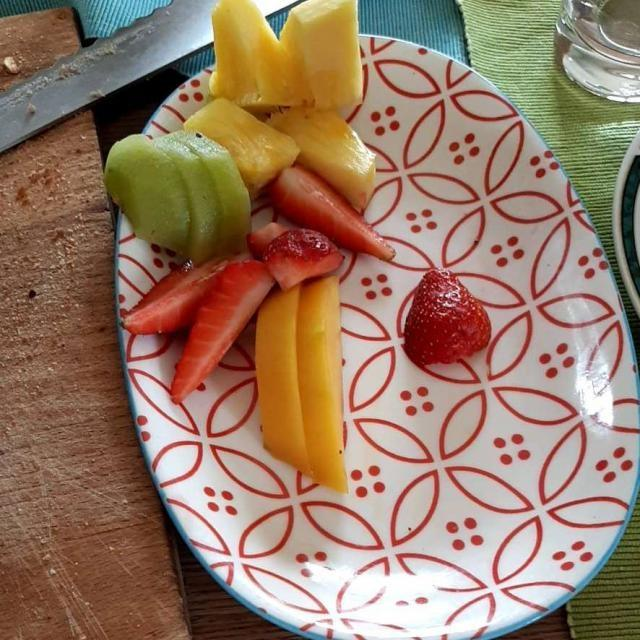kiwi: (81, 128, 247, 262)
mango: (258, 278, 356, 504)
pineapple: (191, 8, 380, 211)
strawberries: (127, 174, 503, 386)
